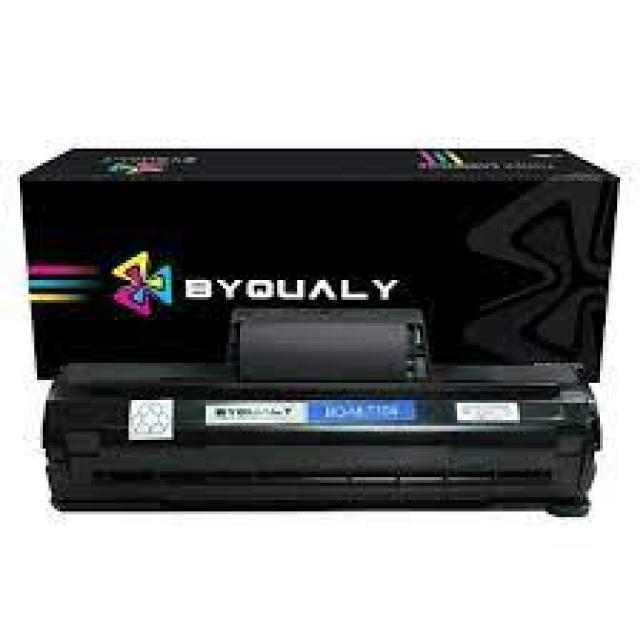printer: (37, 308, 602, 527)
